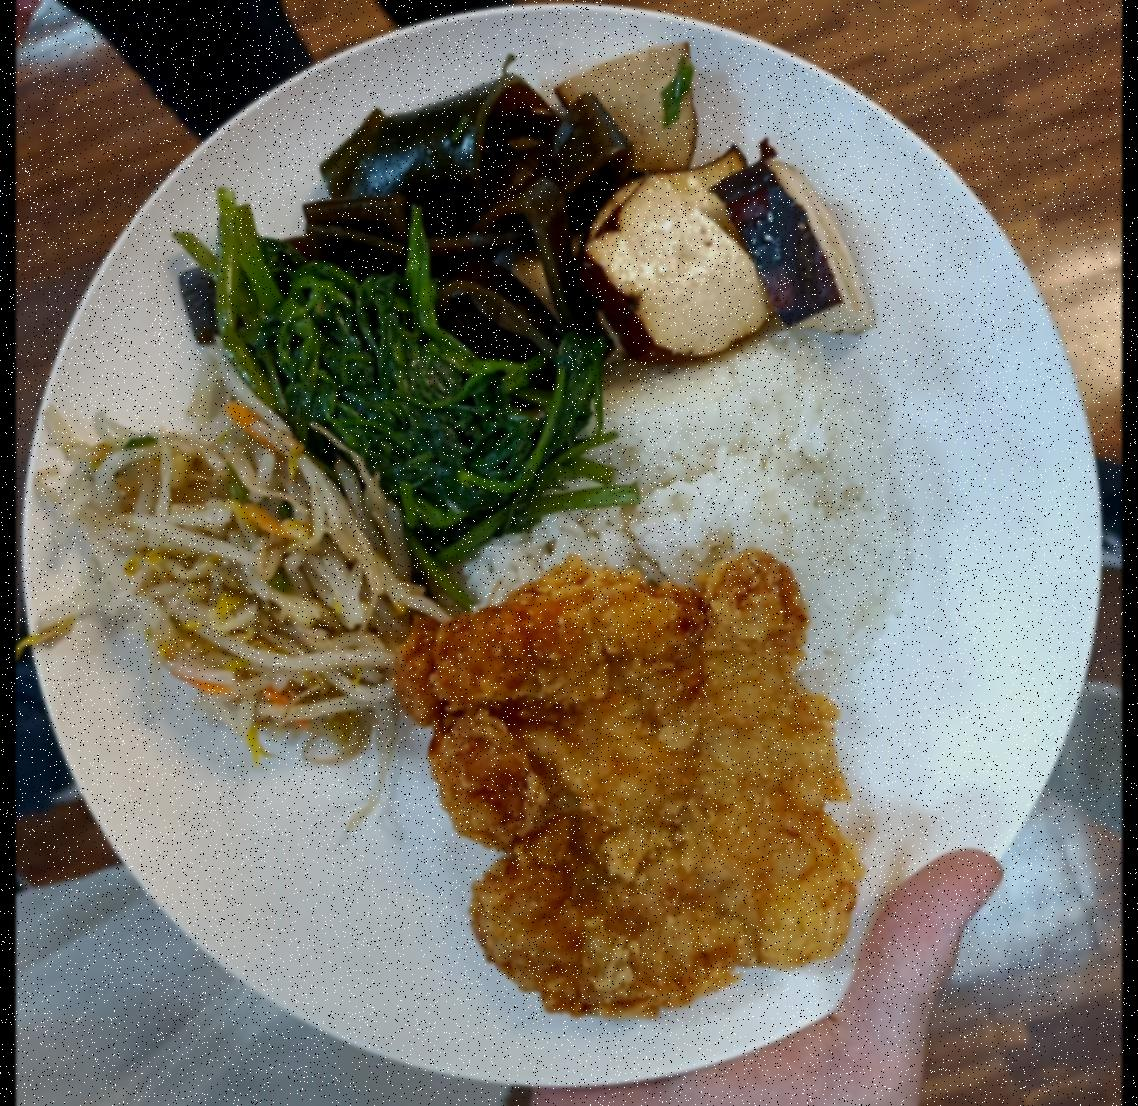kara chicken leg steak: (399, 560, 860, 1023)
plate: (29, 0, 1110, 1091)
side dish: (339, 87, 854, 355), (76, 402, 406, 763), (226, 255, 584, 532)
white rice: (455, 350, 915, 746)
